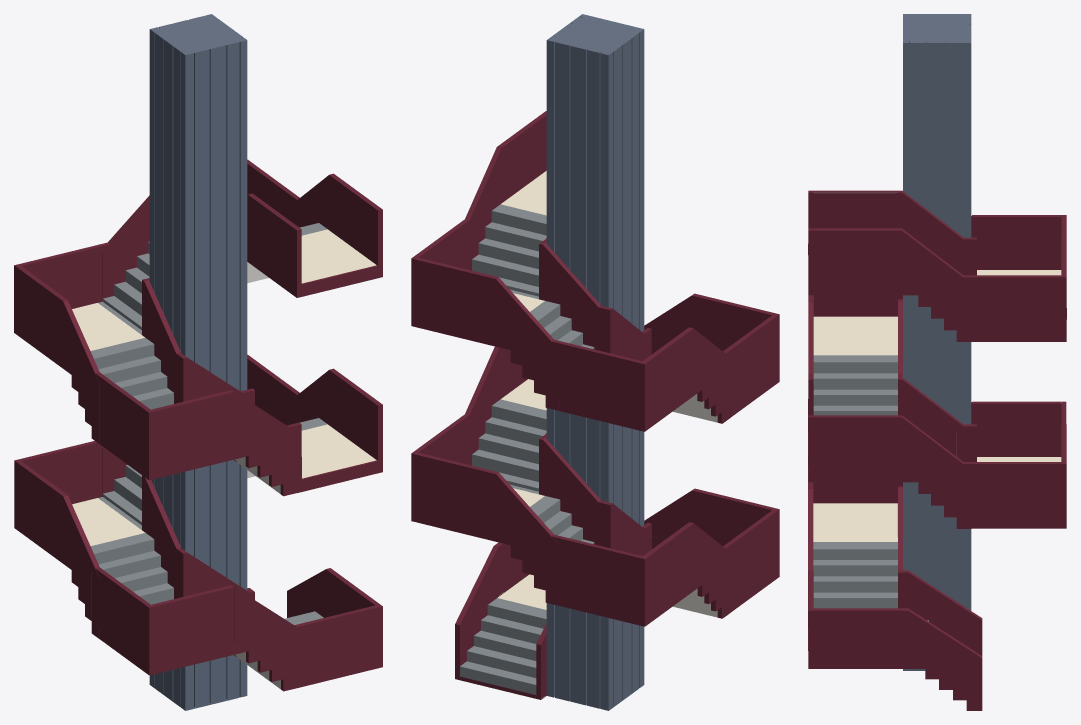
File: ESCALERAS.fbx
3 views of the same model, side by side, from view 1: azimuth 30°, elevation 25°; view 2: azimuth 150°, elevation 25°; view 3: azimuth 270°, elevation 25° (orthographic). The views are drawn at different scales.
Parts seen in each view (by area): view 1: Cube, Baranda.001, Baranda.005, Baranda.006, Baranda.002, Baranda.009, Baranda, Baranda.004, Baranda.007, Gradas.006, Gradas.002, Baranda.003 (+6 smaller); view 2: Cube, Baranda.003, Baranda.007, Baranda.002, Baranda.006, Baranda.001, Baranda.005, Gradas, Baranda.009, Gradas.004, Gradas.009, Baranda (+6 smaller); view 3: Cube, Baranda.009, Baranda.004, Baranda, Baranda.007, Baranda.003, Gradas.001, Gradas.005, Baranda.002, Baranda.006, Piso.005, Piso.001 (+4 smaller).
Part boxes in pixels (left/top/right/bottom): Cube: left=149, top=14, right=247, bottom=710; Baranda.001: left=95, top=547, right=296, bottom=691; Baranda.005: left=95, top=352, right=296, bottom=496; Baranda.006: left=14, top=242, right=180, bottom=443; Baranda.002: left=14, top=441, right=180, bottom=638; Baranda.009: left=247, top=173, right=382, bottom=297; Baranda: left=247, top=568, right=382, bottom=688; Baranda.004: left=240, top=368, right=382, bottom=492; Baranda.007: left=102, top=159, right=299, bottom=298; Gradas.006: left=90, top=337, right=173, bottom=409; Gradas.002: left=91, top=533, right=173, bottom=604; Baranda.003: left=102, top=354, right=299, bottom=496; Cube: left=546, top=14, right=644, bottom=710; Baranda.003: left=411, top=414, right=605, bottom=605; Baranda.007: left=411, top=219, right=605, bottom=410; Baranda.002: left=552, top=500, right=730, bottom=626; Baranda.006: left=551, top=305, right=729, bottom=431; Baranda.001: left=642, top=488, right=779, bottom=612; Baranda.005: left=642, top=293, right=779, bottom=417; Gradas: left=459, top=598, right=546, bottom=694; Baranda.009: left=465, top=111, right=546, bottom=270; Gradas.004: left=472, top=399, right=546, bottom=491; Gradas.009: left=472, top=204, right=546, bottom=296; Baranda: left=455, top=542, right=546, bottom=699; Cube: left=903, top=14, right=971, bottom=670; Baranda.009: left=808, top=190, right=971, bottom=341; Baranda.004: left=808, top=373, right=971, bottom=528; Baranda: left=808, top=570, right=982, bottom=710; Baranda.007: left=963, top=237, right=1066, bottom=341; Baranda.003: left=963, top=424, right=1066, bottom=528; Gradas.001: left=813, top=542, right=897, bottom=608; Gradas.005: left=813, top=355, right=897, bottom=415; Baranda.002: left=971, top=401, right=1066, bottom=456; Baranda.006: left=971, top=215, right=1066, bottom=319; Piso.005: left=813, top=316, right=897, bottom=355; Piso.001: left=813, top=503, right=897, bottom=541.
Bounding box in the file's own units: 490 × 1313 × 491.
